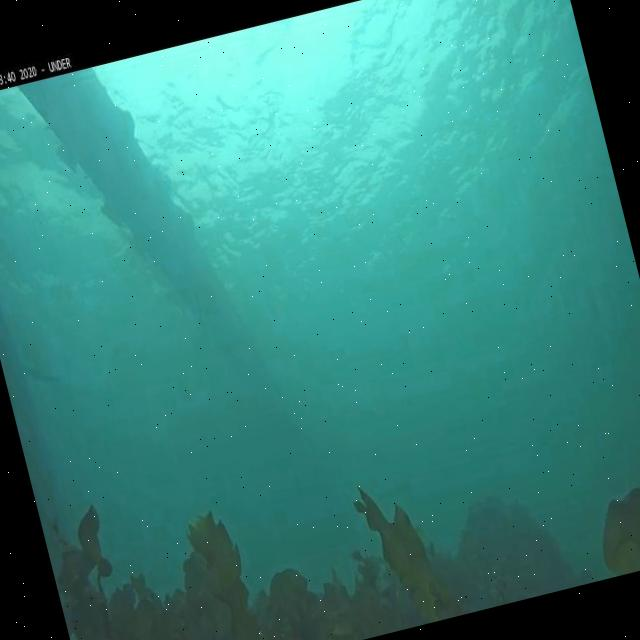fish: (23, 357, 64, 392), (188, 286, 208, 335)
